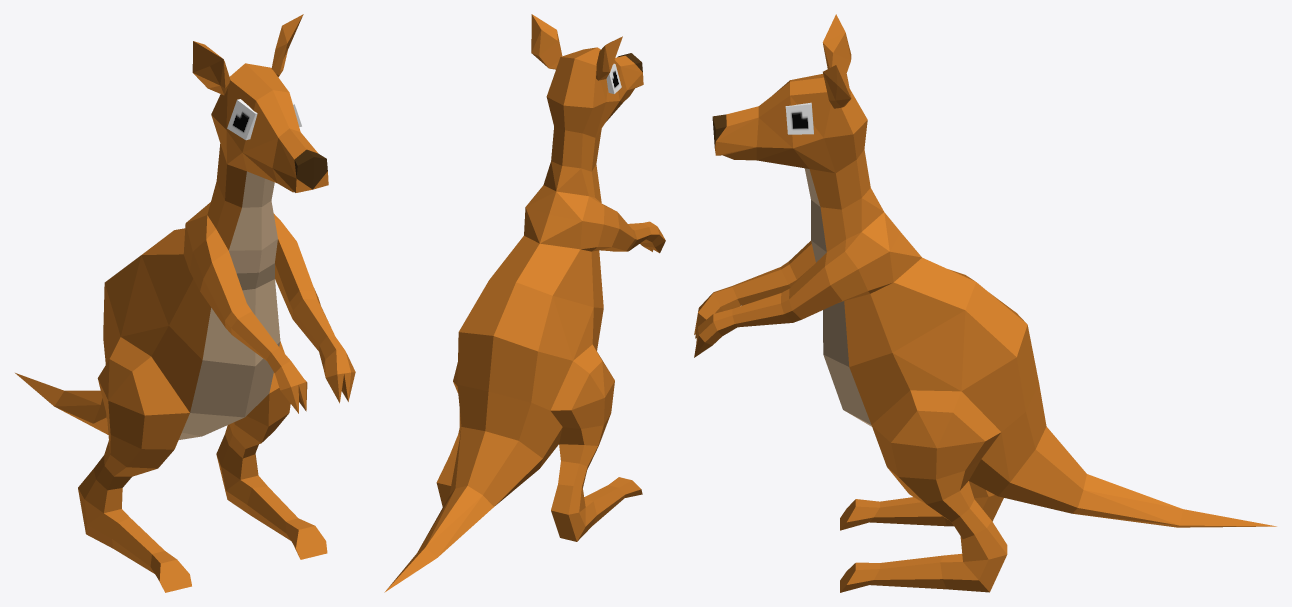
Rendered from daishu.FBX.
3 views of the same model, side by side, from view 1: azimuth 30°, elevation 25°; view 2: azimuth 150°, elevation 25°; view 3: azimuth 270°, elevation 25° (orthographic). The views are drawn at different scales.
Visible parts, largest first — view 1: daishu; view 2: daishu; view 3: daishu.
Part boxes in pixels (box(x1,y1,x2,y2)): daishu: box(15, 14, 355, 592); daishu: box(384, 14, 665, 592); daishu: box(694, 14, 1276, 592).
Size of the model in its own units: 171 by 516 by 529.
